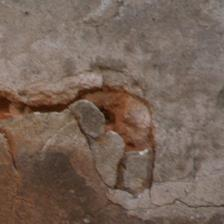Crack: (25, 76, 176, 140), (23, 31, 134, 108), (69, 59, 151, 83)
